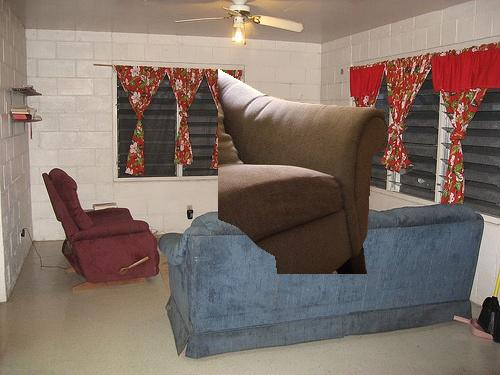tampered: (219, 70, 387, 274)
